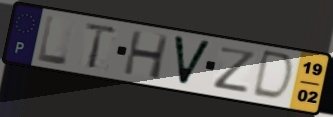D: (249, 49, 297, 104)
H: (121, 28, 172, 81)
L: (36, 13, 70, 67)
T: (82, 21, 120, 71)
V: (171, 33, 214, 89)
Z: (212, 45, 260, 95)
